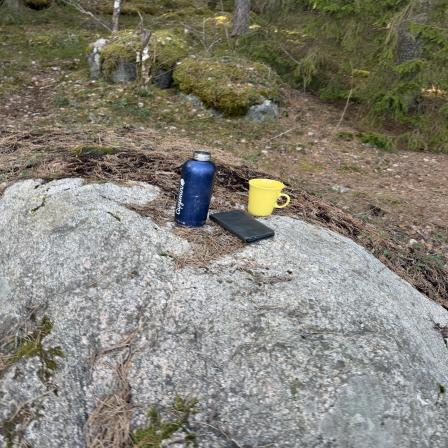blue_bottle: (176, 149, 215, 228)
phone: (210, 208, 278, 246)
yellow_cup: (247, 178, 296, 218)
